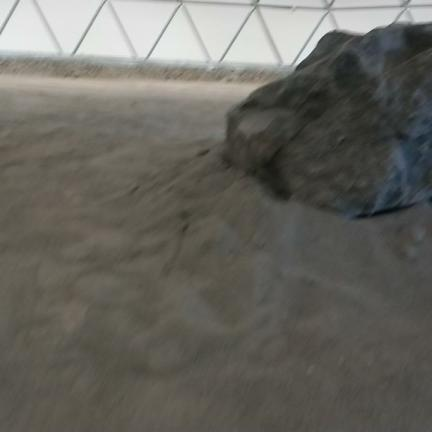Rock: (225, 23, 431, 216)
